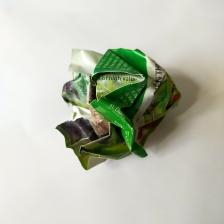Paper: (49, 31, 172, 176)
